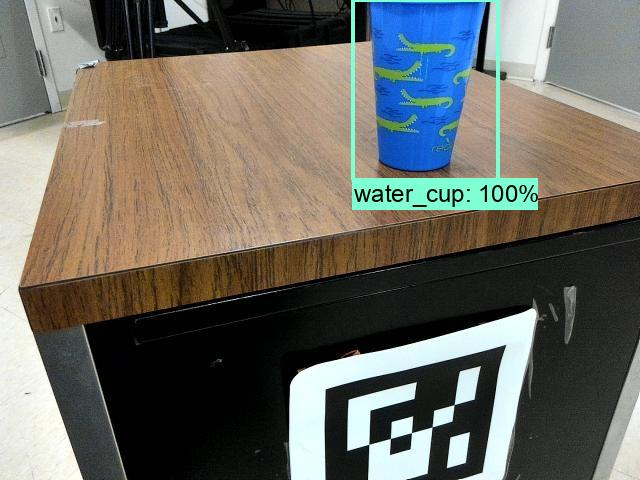water_cup: (361, 1, 494, 175)
